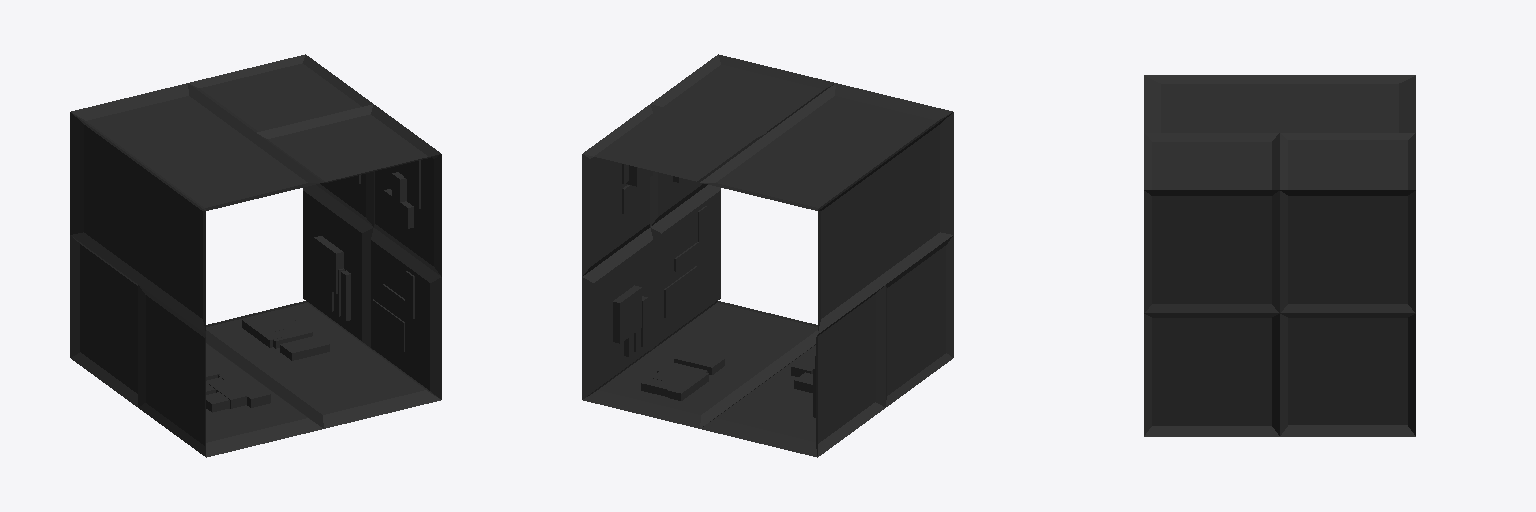
3 renders of one model, left to right at view 1: azimuth 30°, elevation 25°; view 2: azimuth 150°, elevation 25°; view 3: azimuth 270°, elevation 25°, orthographic.
Parts seen in each view (by area): view 1: tunnel; view 2: tunnel; view 3: tunnel.
Boxes of the visible parts, box(x1,y1,x2,y2) form: tunnel: box(70, 54, 441, 457); tunnel: box(582, 54, 953, 457); tunnel: box(1144, 75, 1415, 436).
Size of the model in its own units: 15.56 by 15.56 by 15.56.
Materials: 1 (1 with a texture image).